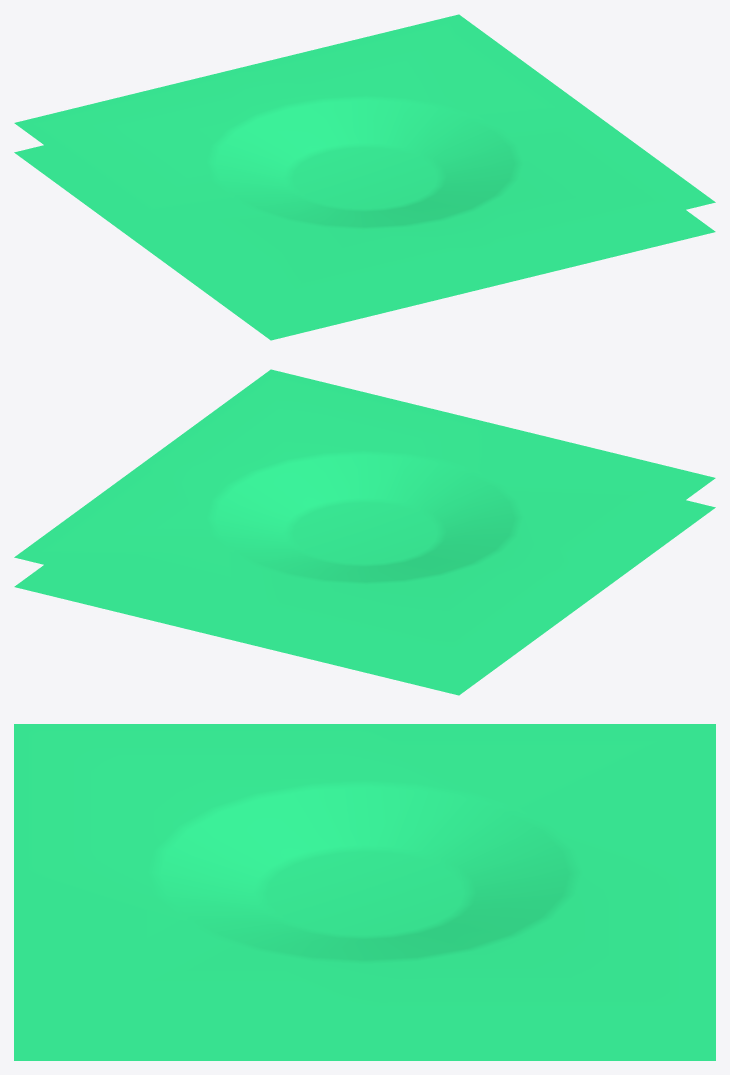
Rendered from bumpDown.fbx.
3 views of the same model, one above another, from view 1: azimuth 30°, elevation 25°; view 2: azimuth 150°, elevation 25°; view 3: azimuth 270°, elevation 25° (orthographic). The views are drawn at different scales.
Parts seen in each view (by area): view 1: bumpDown; view 2: bumpDown; view 3: bumpDown.
Part boxes in pixels (x1,y1,x2,y2): bumpDown: (14, 14, 715, 340); bumpDown: (14, 369, 715, 695); bumpDown: (14, 724, 715, 1060).
Size of the model in its own units: 99.99 by 99.99 by 6.33.
